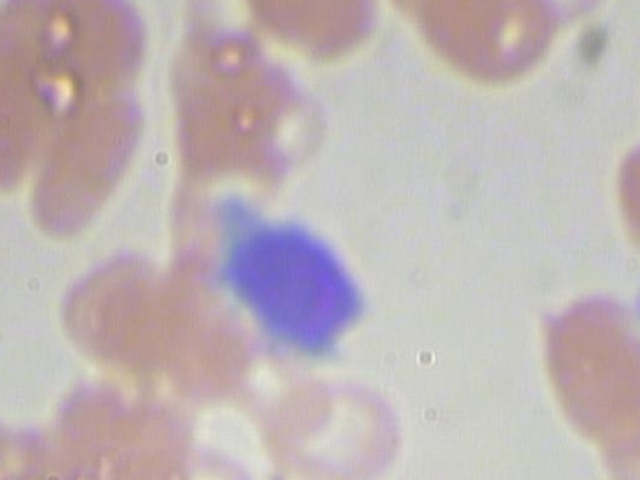Platelets: (631, 270, 640, 333)
WBC: (211, 191, 401, 371)
